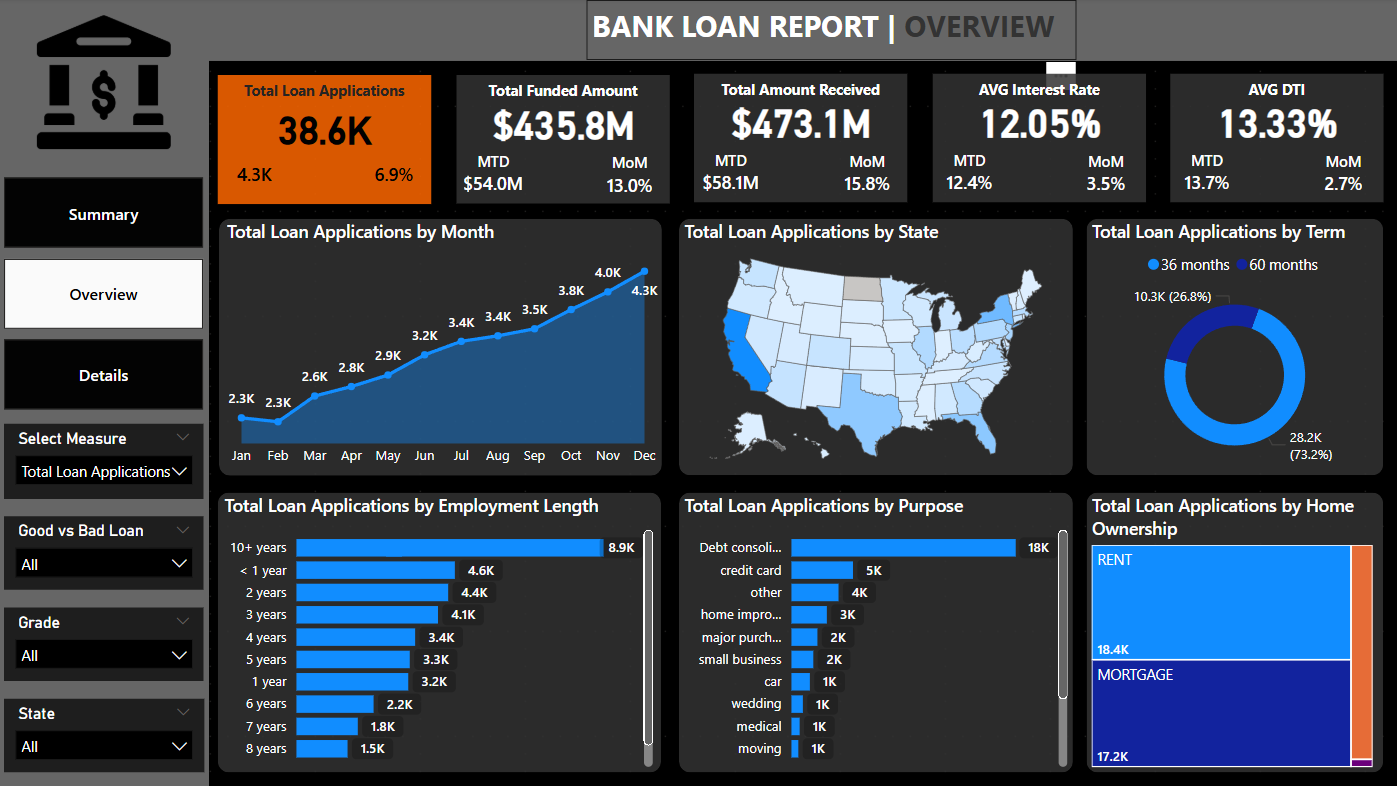

The dashboard page shown, as its layout file describes it:
{"tool":"powerbi","page":{"name":"Overview","canvas":[1280,720],"ordinal":1},"visuals":[{"type":"shape","box":[0,0,1280,55.7],"z":0},{"type":"shape","box":[635.9,67.5,195,117.5],"z":0,"group":"g3"},{"type":"shape","box":[853.7,67.5,195,117.5],"z":0,"group":"g4"},{"type":"shape","box":[1071.5,67.5,195,117.5],"z":0,"group":"g5"},{"type":"shape","box":[200.8,68.2,195.3,118],"z":0,"group":"g2"},{"type":"shape","box":[418.7,68.5,195,117.5],"z":0,"group":"g1"},{"type":"shape","box":[0,54.5,192,666.1],"z":1000},{"type":"card","title":"MTD","fields":{"Values":["Measures (2).MTD Amount Received"]},"box":[636.5,137.5,64.7,46.3],"z":1000,"group":"g3"},{"type":"card","title":"MTD","fields":{"Values":["Measures (2).MTD Interest Rate"]},"box":[854.3,137.5,64.7,46.3],"z":1000,"group":"g4"},{"type":"card","title":"MTD","fields":{"Values":["Measures (2).MTD AVG DTI"]},"box":[1072.1,137.5,64.7,46.3],"z":1000,"group":"g5"},{"type":"card","title":"MTD","fields":{"Values":["Measures (2).MTD Loan Applications"]},"box":[202,138.2,64.7,46.7],"z":1000,"group":"g2"},{"type":"card","title":"MTD","fields":{"Values":["Measures (2).MTD Funded Amount"]},"box":[419.3,138.5,64.7,46.3],"z":1000,"group":"g1"},{"type":"textbox","box":[537.5,0,447.5,55],"z":2000},{"type":"card","fields":{"Values":["Measures (2).Total Amount Received"]},"box":[635.4,88.3,196.3,44.7],"z":2000,"group":"g3"},{"type":"card","fields":{"Values":["Measures (2).AVG Interest Rate"]},"box":[853.2,88.3,196.3,44.7],"z":2000,"group":"g4"},{"type":"card","fields":{"Values":["Measures (2).AVG DTI"]},"box":[1071,88.3,196.3,44.7],"z":2000,"group":"g5"},{"type":"card","fields":{"Values":["Measures (2).Total Funded Amount"]},"box":[418.2,89.3,196.3,44.7],"z":2000,"group":"g1"},{"type":"card","fields":{"Values":["Measures (2).Total Loan Applications"]},"box":[200.6,92.2,196,48.7],"z":2000,"group":"g2"},{"type":"textbox","box":[635.4,67.8,194.7,27.4],"z":3000,"group":"g3"},{"type":"textbox","box":[853.2,67.8,194.7,27.4],"z":3000,"group":"g4"},{"type":"textbox","box":[1071,67.8,194.7,27.4],"z":3000,"group":"g5"},{"type":"textbox","box":[199.3,68.2,196.7,27.3],"z":3000,"group":"g2"},{"type":"textbox","box":[418.2,68.8,194.7,27.4],"z":3000,"group":"g1"},{"type":"shape","box":[201.2,200,405,235],"z":3000},{"type":"group","id":"g1","title":"Group 1","box":[418.2,68.5,195.6,117.8],"z":4000},{"type":"card","title":"MoM","fields":{"Values":["Measures (2).MOM Amount Received"]},"box":[760.7,138,65.3,46.3],"z":4000,"group":"g3"},{"type":"card","title":"MoM","fields":{"Values":["Measures (2).MOM AVG Int Rate"]},"box":[978.5,138,65.3,46.3],"z":4000,"group":"g4"},{"type":"card","title":"MoM","fields":{"Values":["Measures (2).MOM AVG DTI"]},"box":[1196.3,138,65.3,46.3],"z":4000,"group":"g5"},{"type":"card","title":"MoM","fields":{"Values":["Measures (2).MOM Loan Application"]},"box":[330,138.2,64,46.7],"z":4000,"group":"g2"},{"type":"card","title":"MoM","fields":{"Values":["Measures (2).MOM Funded Amount"]},"box":[543.5,139,65.3,46.3],"z":4000,"group":"g1"},{"type":"group","id":"g2","title":"Group 2","box":[199.3,68.2,197.3,118],"z":5000},{"type":"group","id":"g3","title":"Group 1","box":[635.4,67.5,196.2,118.8],"z":6000},{"type":"group","id":"g4","title":"Group 1","box":[853.2,67.5,196.2,118.8],"z":7000},{"type":"group","id":"g5","title":"Group 1","box":[1071,67.5,196.2,118.8],"z":8000},{"type":"slicer","fields":{"Values":["bank_loan_data.address_state"]},"box":[4.6,638.9,182.9,67.4],"z":9000},{"type":"slicer","fields":{"Values":["bank_loan_data.grade"]},"box":[4.6,555.6,182.5,67.5],"z":10000},{"type":"slicer","fields":{"Values":["bank_loan_data.Good vs Bad Loans"]},"box":[4.6,472.4,182.5,67.5],"z":11000},{"type":"areaChart","fields":{"Y":["Measures (2).Total Loan Applications"],"Category":["Date_Table.Month"]},"box":[203.9,200.3,405.3,234.7],"z":12000},{"type":"slicer","fields":{"Values":["Select Measure.Select Measure"]},"box":[4.6,388,182.5,68.8],"z":13000},{"type":"shape","box":[622.2,200.3,360.3,234.7],"z":14000},{"type":"shapeMap","fields":{"Value":["Measures (2).Total Loan Applications"],"Category":["bank_loan_data.address_state"]},"box":[622.2,200.3,360.3,234.7],"z":15000},{"type":"shape","box":[994.4,200.3,271.4,234.7],"z":16000},{"type":"donutChart","fields":{"Y":["Measures (2).Total Loan Applications"],"Category":["bank_loan_data.term"]},"box":[994.4,200.3,271.4,234.7],"z":17000},{"type":"shape","box":[200.3,450.4,405.3,256],"z":18000},{"type":"barChart","fields":{"Y":["Measures (2).Total Loan Applications"],"Category":["bank_loan_data.emp_length"]},"box":[201.5,450.4,401.8,256],"z":19000},{"type":"shape","box":[622.2,450.4,360.3,256],"z":20000},{"type":"barChart","fields":{"Y":["Measures (2).Total Loan Applications"],"Category":["bank_loan_data.purpose"]},"box":[622.2,450.4,360.3,256],"z":21000},{"type":"shape","box":[994.4,450.4,271.4,256],"z":22000},{"type":"treemap","fields":{"Values":["Measures (2).Total Loan Applications"],"Group":["bank_loan_data.home_ownership"]},"box":[994.4,450.4,266.7,256],"z":23000},{"type":"image","box":[11.9,9.1,168,132.6],"z":24000},{"type":"pageNavigator","box":[4.6,162.3,182.9,214.9],"z":25000}]}

Visuals, with their boxes in screenshot pixels (x1, y1, x2, y2), scaled from the page's 1280x720 canvas onto the 1397x786 screenshot:
shape: (0, 0, 1396, 61)
shape: (694, 74, 907, 202)
shape: (932, 74, 1145, 202)
shape: (1169, 74, 1382, 202)
shape: (219, 74, 432, 203)
shape: (457, 75, 670, 203)
shape: (0, 59, 210, 785)
"MTD" card: (695, 150, 765, 201)
"MTD" card: (932, 150, 1003, 201)
"MTD" card: (1170, 150, 1241, 201)
"MTD" card: (220, 151, 291, 202)
"MTD" card: (458, 151, 528, 202)
textbox: (587, 0, 1075, 60)
card - Measures (2).Total Amount Received: (693, 96, 908, 145)
card - Measures (2).AVG Interest Rate: (931, 96, 1145, 145)
card - Measures (2).AVG DTI: (1169, 96, 1383, 145)
card - Measures (2).Total Funded Amount: (456, 97, 671, 146)
card - Measures (2).Total Loan Applications: (219, 101, 433, 154)
textbox: (693, 74, 906, 104)
textbox: (931, 74, 1144, 104)
textbox: (1169, 74, 1381, 104)
textbox: (218, 74, 432, 104)
textbox: (456, 75, 669, 105)
shape: (220, 218, 662, 475)
"Group 1" group: (456, 75, 670, 203)
"MoM" card: (830, 151, 902, 201)
"MoM" card: (1068, 151, 1139, 201)
"MoM" card: (1306, 151, 1377, 201)
"MoM" card: (360, 151, 430, 202)
"MoM" card: (593, 152, 664, 202)
"Group 2" group: (218, 74, 433, 203)
"Group 1" group: (693, 74, 908, 203)
"Group 1" group: (931, 74, 1145, 203)
"Group 1" group: (1169, 74, 1383, 203)
slicer - bank_loan_data.address_state: (5, 697, 205, 771)
slicer - bank_loan_data.grade: (5, 607, 204, 680)
slicer - bank_loan_data.Good vs Bad Loans: (5, 516, 204, 589)
areaChart - Measures (2).Total Loan Applications x Date_Table.Month: (223, 219, 665, 475)
slicer - Select Measure.Select Measure: (5, 424, 204, 499)
shape: (679, 219, 1072, 475)
shapeMap - Measures (2).Total Loan Applications x bank_loan_data.address_state: (679, 219, 1072, 475)
shape: (1085, 219, 1382, 475)
donutChart - Measures (2).Total Loan Applications x bank_loan_data.term: (1085, 219, 1382, 475)
shape: (219, 492, 661, 771)
barChart - Measures (2).Total Loan Applications x bank_loan_data.emp_length: (220, 492, 658, 771)
shape: (679, 492, 1072, 771)
barChart - Measures (2).Total Loan Applications x bank_loan_data.purpose: (679, 492, 1072, 771)
shape: (1085, 492, 1382, 771)
treemap - Measures (2).Total Loan Applications x bank_loan_data.home_ownership: (1085, 492, 1376, 771)
image: (13, 10, 196, 155)
pageNavigator: (5, 177, 205, 412)
